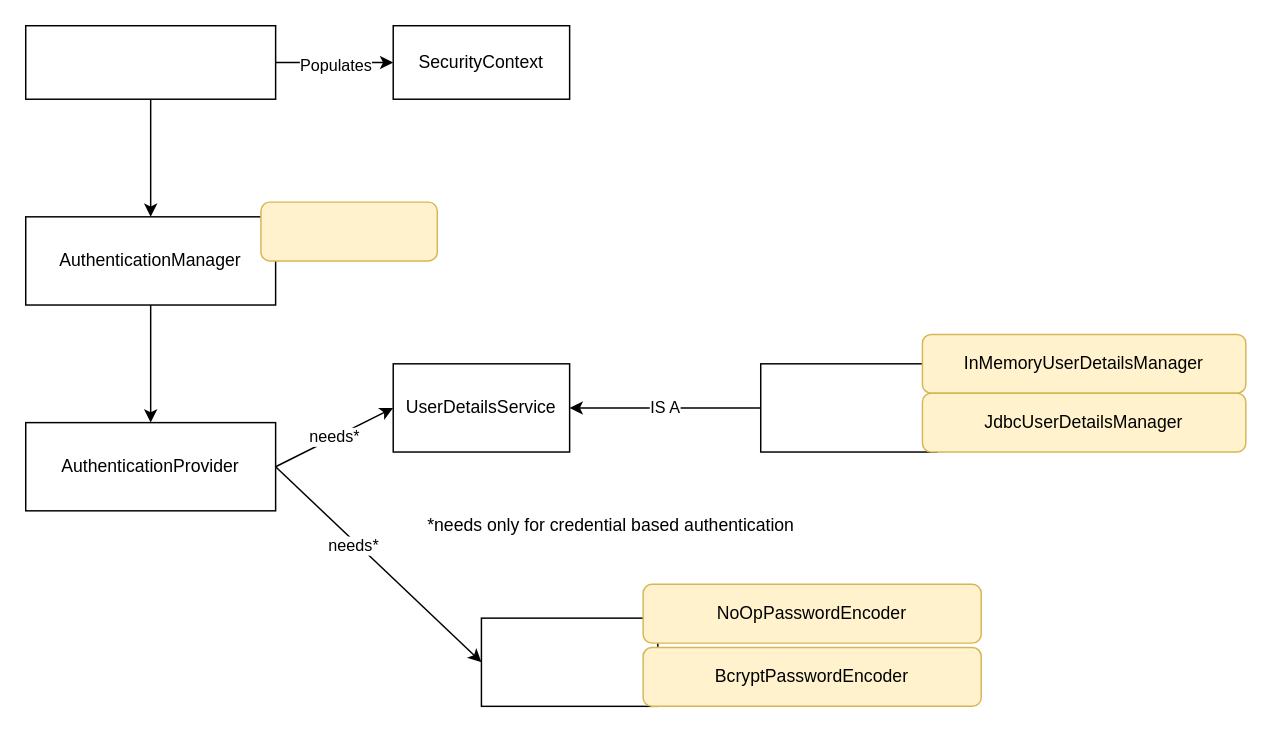
This 1272x732 diagram has some shape labels left out. The box of each missing label's shape, as (x1, y1, x2, y2) in pixels:
AuthenticationFilter: (24, 24, 276, 99)
PasswordEncoder: (480, 617, 658, 706)
ProviderManager: (259, 201, 437, 261)
UserDetailsManager: (759, 362, 937, 452)
